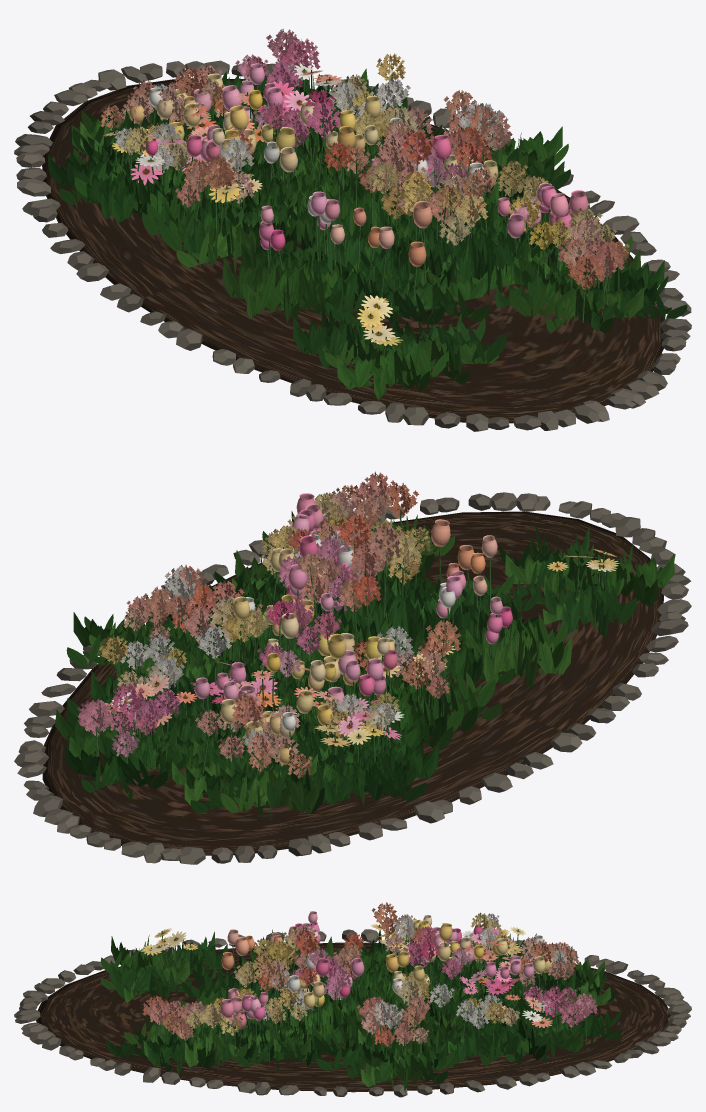
The model's file is flower-bed-8.glb.
3 views of the same model, one above another, from view 1: azimuth 30°, elevation 25°; view 2: azimuth 150°, elevation 25°; view 3: azimuth 270°, elevation 25° (orthographic). The views are drawn at different scales.
Visible parts, largest first — view 1: flower-bed-8_FlowerFoliage, flower-bed-8_Mulch, flower-bed-8_FlowerFloret, flower-bed-8_EdgeStone, flower-bed-8_FlowerCup, flower-bed-8_FlowerStem, flower-bed-8_FlowerDaisy; view 2: flower-bed-8_FlowerFoliage, flower-bed-8_Mulch, flower-bed-8_FlowerFloret, flower-bed-8_EdgeStone, flower-bed-8_FlowerCup, flower-bed-8_FlowerStem, flower-bed-8_FlowerDaisy; view 3: flower-bed-8_FlowerFoliage, flower-bed-8_FlowerFloret, flower-bed-8_Mulch, flower-bed-8_EdgeStone, flower-bed-8_FlowerCup, flower-bed-8_FlowerDaisy, flower-bed-8_FlowerStem.
Boxes of the visible parts, x1,y1,x2,y2 form: flower-bed-8_FlowerFoliage: [47, 64, 687, 400]; flower-bed-8_Mulch: [42, 78, 663, 423]; flower-bed-8_FlowerFloret: [100, 28, 629, 290]; flower-bed-8_EdgeStone: [14, 60, 691, 431]; flower-bed-8_FlowerCup: [129, 63, 588, 266]; flower-bed-8_FlowerStem: [112, 68, 619, 356]; flower-bed-8_FlowerDaisy: [103, 63, 402, 345]; flower-bed-8_FlowerFoliage: [55, 511, 674, 820]; flower-bed-8_Mulch: [42, 511, 663, 855]; flower-bed-8_FlowerFloret: [77, 471, 461, 778]; flower-bed-8_EdgeStone: [14, 492, 691, 864]; flower-bed-8_FlowerCup: [194, 493, 512, 764]; flower-bed-8_FlowerStem: [95, 499, 605, 779]; flower-bed-8_FlowerDaisy: [101, 549, 619, 746]; flower-bed-8_FlowerFoliage: [100, 929, 621, 1092]; flower-bed-8_FlowerFloret: [142, 902, 597, 1046]; flower-bed-8_Mulch: [36, 942, 670, 1092]; flower-bed-8_EdgeStone: [14, 929, 691, 1097]; flower-bed-8_FlowerCup: [220, 911, 557, 1028]; flower-bed-8_FlowerDaisy: [140, 923, 552, 1027]; flower-bed-8_FlowerStem: [151, 924, 586, 1058].
Bounding box in the file's own units: 2.79 × 0.7995 × 4.78.
7 materials, 4 textured.
